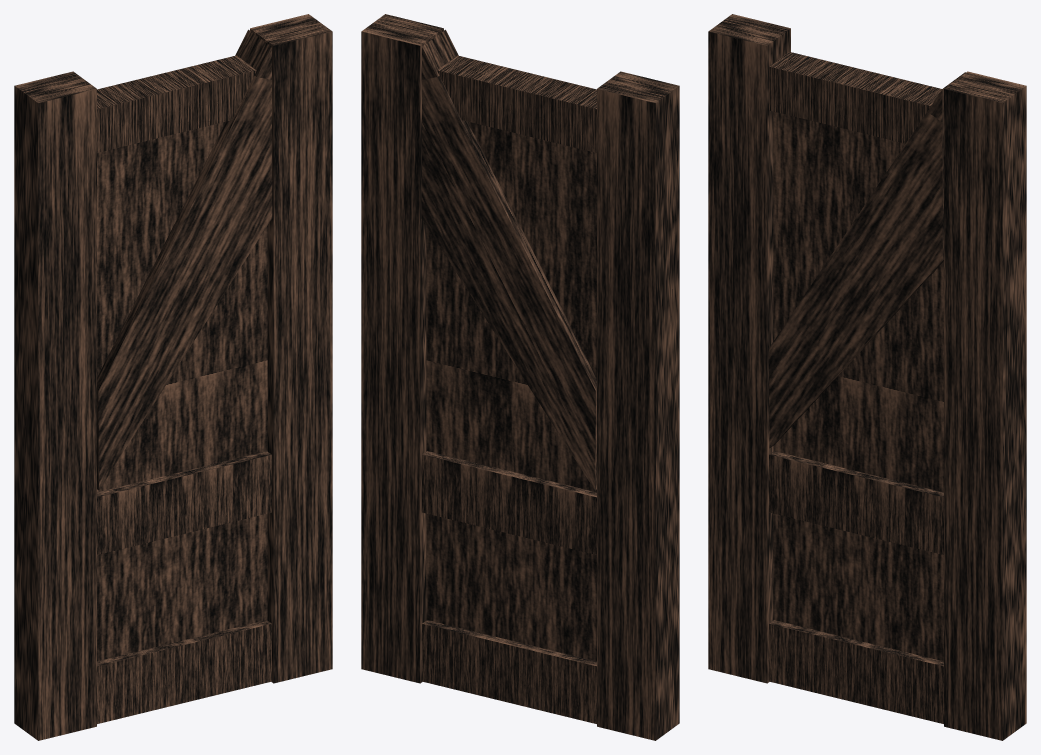
The model's file is PuertaDer.obj.
The picture shows the model from 3 angles, left to right: view 1: azimuth 30°, elevation 25°; view 2: azimuth 150°, elevation 25°; view 3: azimuth 330°, elevation 25°; orthographic projection.
Parts seen in each view (by area): view 1: Puerta_derecha; view 2: Puerta_derecha; view 3: Puerta_derecha.
Boxes of the visible parts, bbox=[...] form: Puerta_derecha: bbox=[14, 14, 332, 740]; Puerta_derecha: bbox=[361, 14, 679, 740]; Puerta_derecha: bbox=[708, 14, 1026, 740].
Size of the model in its own units: 120 by 249 by 16.88.
Materials: 1 (1 with a texture image).
